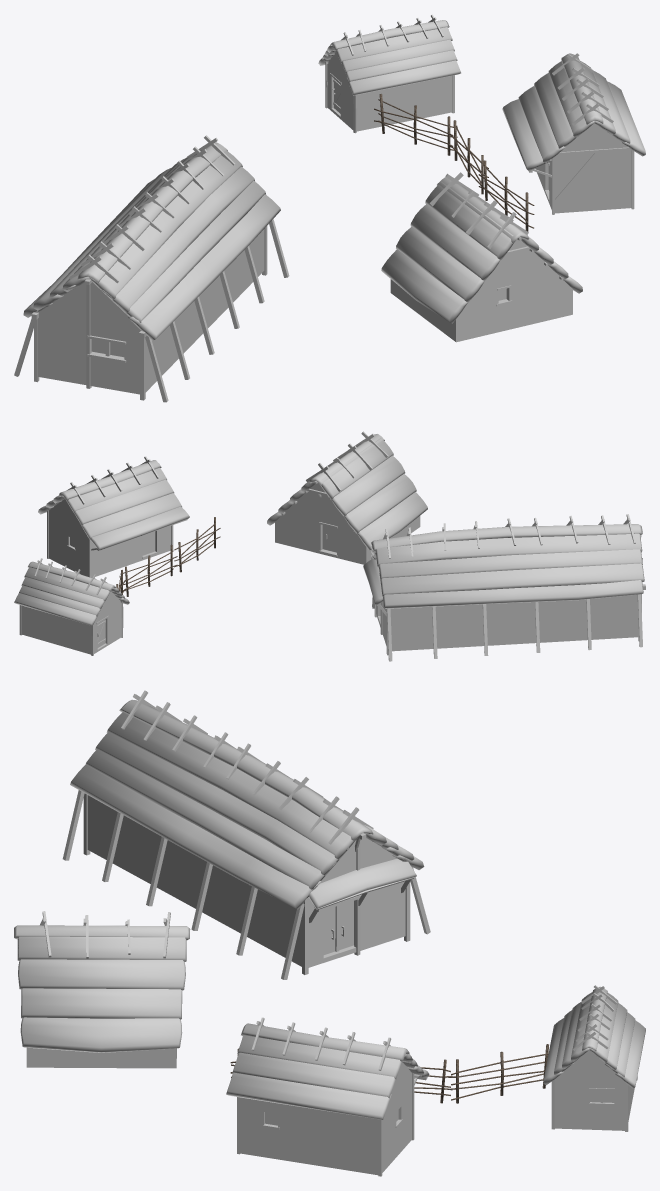
The model's file is scena1.obj.
The picture shows the model from 3 angles, top to bottom: view 1: azimuth 30°, elevation 25°; view 2: azimuth 150°, elevation 25°; view 3: azimuth 270°, elevation 25°; orthographic projection. The views are drawn at different scales.
Visible parts, largest first — view 1: big_house_Cube.004, stone_house_Cube.012, small_house_2_Cube.011, Small_house_Cube.010, withe_fence.016_Cylinder.087, withe_fence.002_Cylinder.002, withe_fence.001_Cylinder.001; view 2: big_house_Cube.004, stone_house_Cube.012, small_house_2_Cube.011, Small_house_Cube.010, withe_fence.001_Cylinder.001, withe_fence.002_Cylinder.002; view 3: big_house_Cube.004, stone_house_Cube.012, small_house_2_Cube.011, Small_house_Cube.010, withe_fence.016_Cylinder.087.
Boxes of the visible parts, left/top/right/bottom form: big_house_Cube.004: left=14, top=135, right=289, bottom=402; stone_house_Cube.012: left=381, top=172, right=582, bottom=342; small_house_2_Cube.011: left=502, top=53, right=645, bottom=214; Small_house_Cube.010: left=318, top=14, right=460, bottom=133; withe_fence.016_Cylinder.087: left=374, top=94, right=457, bottom=155; withe_fence.002_Cylinder.002: left=478, top=160, right=534, bottom=231; withe_fence.001_Cylinder.001: left=449, top=120, right=488, bottom=194; big_house_Cube.004: left=363, top=514, right=645, bottom=661; stone_house_Cube.012: left=267, top=431, right=427, bottom=564; small_house_2_Cube.011: left=38, top=456, right=189, bottom=577; Small_house_Cube.010: left=14, top=558, right=129, bottom=655; withe_fence.001_Cylinder.001: left=120, top=544, right=177, bottom=596; withe_fence.002_Cylinder.002: left=174, top=517, right=220, bottom=572; big_house_Cube.004: left=62, top=690, right=430, bottom=979; stone_house_Cube.012: left=14, top=911, right=190, bottom=1068; small_house_2_Cube.011: left=226, top=1017, right=429, bottom=1176; Small_house_Cube.010: left=543, top=985, right=645, bottom=1131; withe_fence.016_Cylinder.087: left=448, top=1044, right=548, bottom=1103.
Size of what is drawn, in the model's own units: 5.07 by 0.961 by 3.62.
